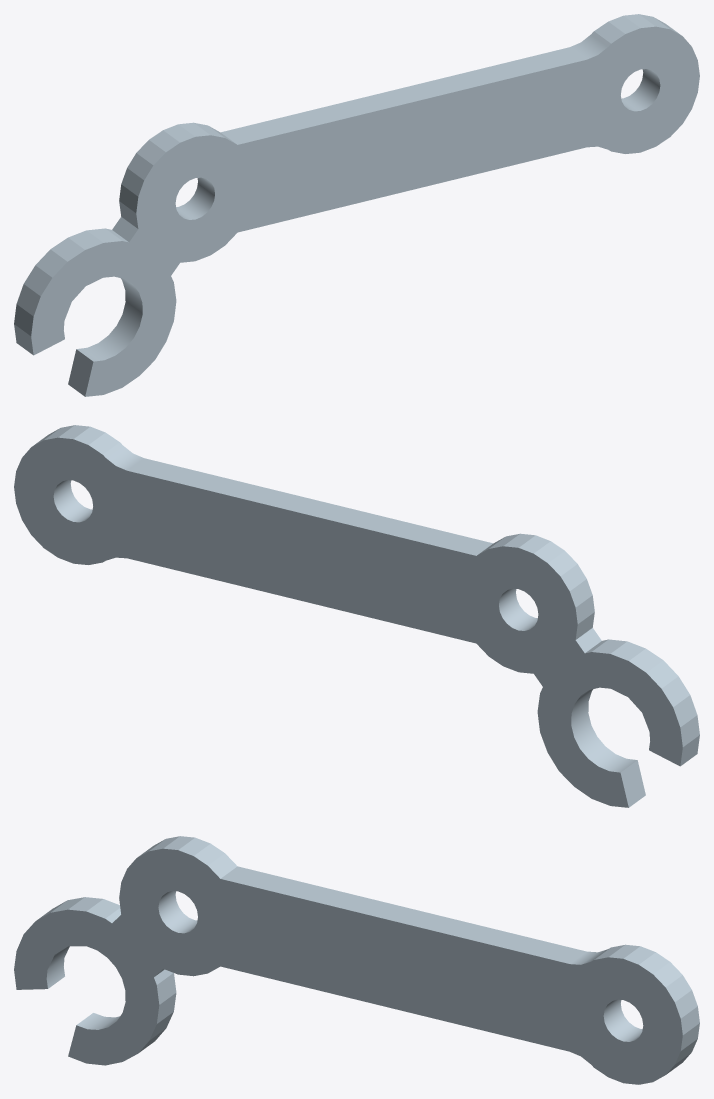
The model's file is prt0017.obj.
3 views of the same model, one above another, from view 1: azimuth 30°, elevation 25°; view 2: azimuth 150°, elevation 25°; view 3: azimuth 330°, elevation 25° (orthographic).
Parts seen in each view (by area): view 1: 1; view 2: 1; view 3: 1.
Boxes of the visible parts, x1,y1,x2,y2 form: 1: (14,14,699,396); 1: (14,425,699,807); 1: (14,836,699,1084).
Bounding box in the file's own units: 67.61 × 22.78 × 3.
